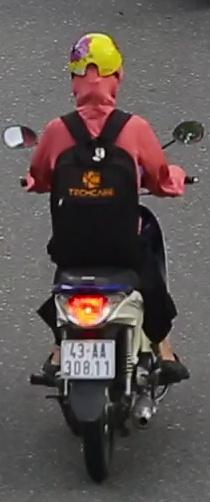LP: (59, 334, 117, 382)
helmet: (63, 27, 129, 119)
